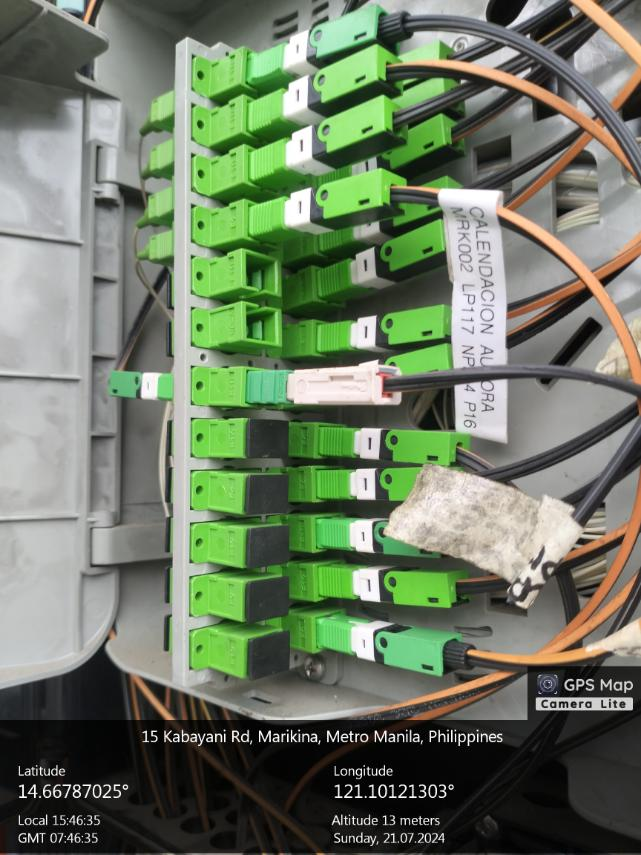no dust cap: (242, 304, 283, 351), (241, 252, 279, 295)
occupied: (317, 202, 480, 304), (244, 37, 413, 133), (247, 92, 413, 185), (243, 0, 411, 84), (311, 169, 477, 250), (300, 115, 472, 192), (302, 39, 465, 116), (303, 80, 469, 152), (246, 163, 412, 235), (318, 606, 486, 677), (311, 341, 473, 407), (314, 300, 465, 355), (312, 512, 462, 565), (314, 423, 475, 469), (320, 563, 469, 611), (243, 361, 407, 404), (316, 465, 476, 504)
vacant: (241, 523, 291, 572), (243, 628, 293, 676), (244, 576, 289, 624), (244, 475, 290, 515), (246, 421, 290, 456)
